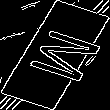M_SE: (10, 24, 100, 86)
